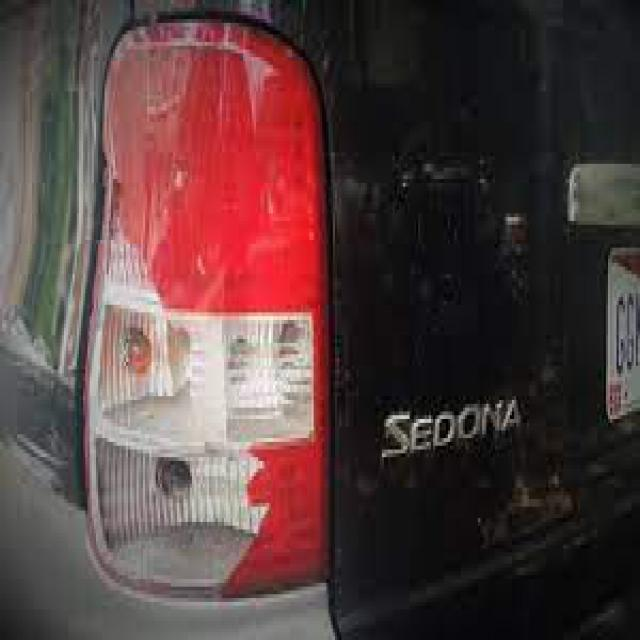Taillight-Damage: (75, 0, 333, 610)
